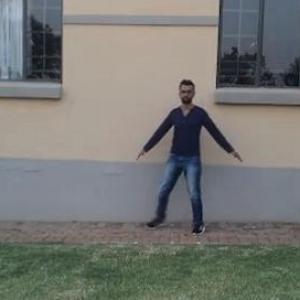land: (136, 85, 241, 245)
